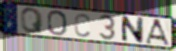3: (98, 14, 117, 42)
A: (144, 18, 171, 47)
C: (73, 12, 91, 38)
N: (120, 15, 145, 45)
O: (46, 10, 68, 37)
Q: (20, 7, 45, 35)
